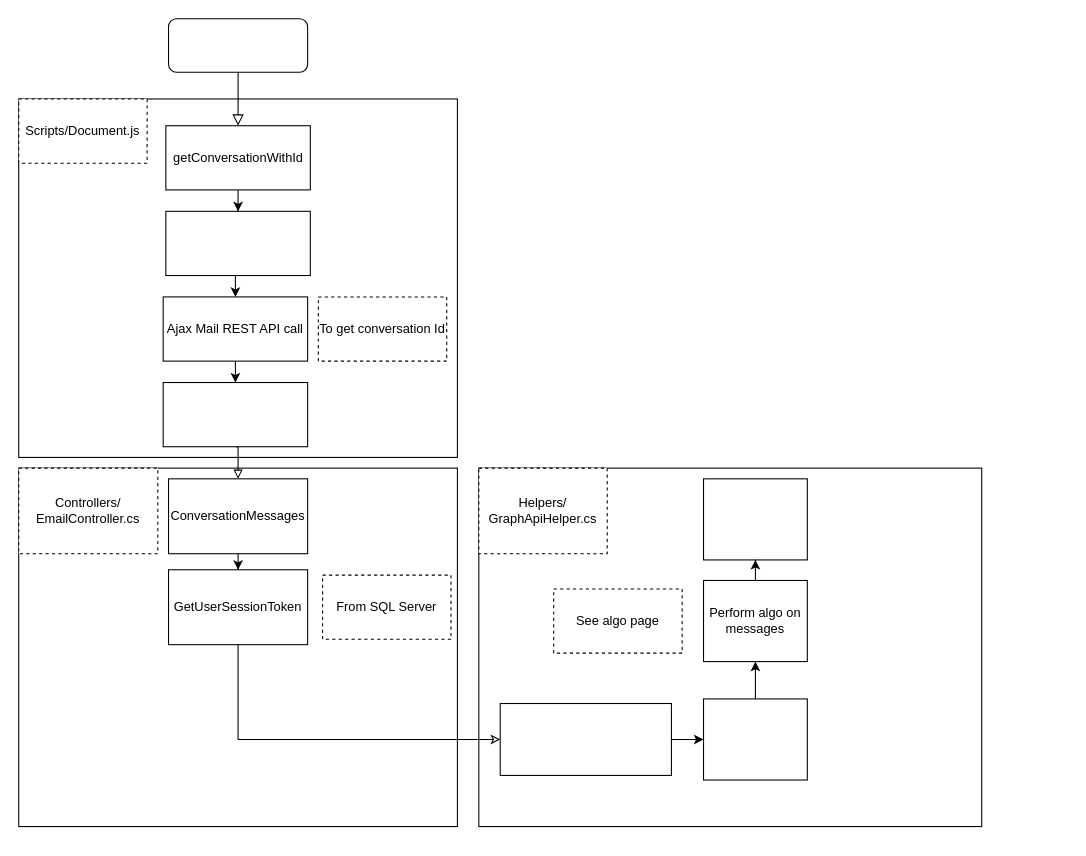
Some shapes in this 1086 by 856 pixel diagram are drawn without their labels. The box of each missing label's shape, as (x1, y1, x2, y2) in pixels:
Ajax controllerCall "email, GET": (162, 381, 308, 447)
getCallBackTokenAsync "Access Token": (165, 210, 310, 276)
getConversationIdMessages: (499, 702, 671, 775)
Graph API call "conversationId": (702, 698, 807, 780)
On-Click "Cleanup Conversation Messages": (167, 18, 308, 72)
Return conversation messages: (702, 478, 807, 560)
